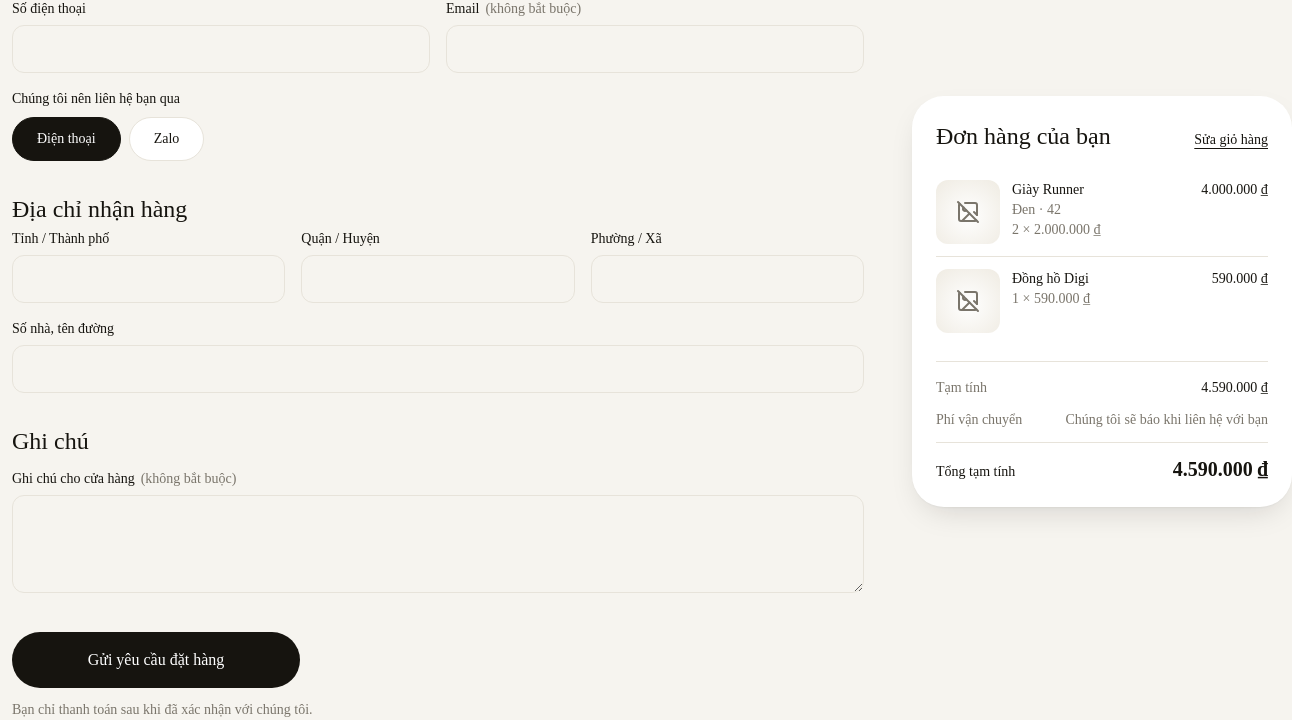
it: when the server says no › shows each field problem next to its field in Vietnamese and keeps what was typed
(page scrolled)
Expected: the text "Giày Runner" is shown, [1012, 182, 1084, 197]
Step 1. Click the button "Gửi yêu cầu đặt hàng" → (156, 660), box [12, 632, 300, 688]
(page scrolled)
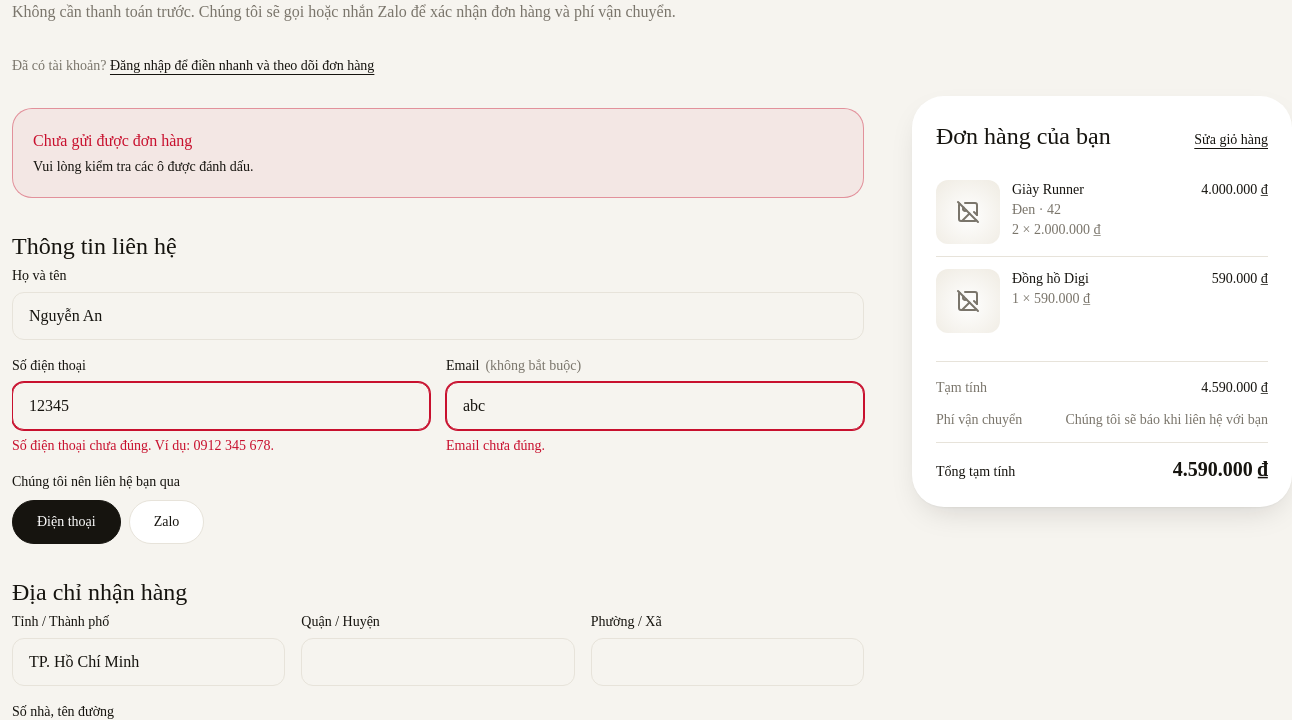
Expected: the message shows "Vui lòng kiểm tra các ô được đánh dấu.", [33, 159, 254, 174]
Expected: the field labelled "Họ và tên" holds "Nguyễn An", [12, 292, 864, 340]
Expected: the field labelled "Số điện thoại" holds "12345", [12, 382, 430, 430]
